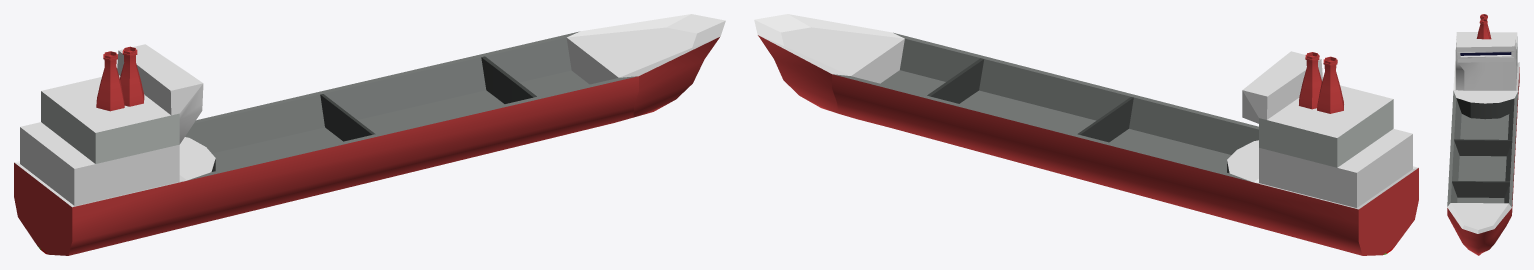
File: Boat_Container.fbx
3 renders of one model, left to right at view 1: azimuth 30°, elevation 25°; view 2: azimuth 150°, elevation 25°; view 3: azimuth 270°, elevation 25°, orthographic. The views are drawn at different scales.
Visible parts, largest first — view 1: pCylinder12; view 2: pCylinder12; view 3: pCylinder12.
Part boxes in pixels (box(x1,y1,x2,y2)): pCylinder12: box(14, 14, 725, 255); pCylinder12: box(754, 14, 1418, 255); pCylinder12: box(1447, 14, 1519, 255).
Size of the model in its own units: 129 by 33.64 by 22.42.
